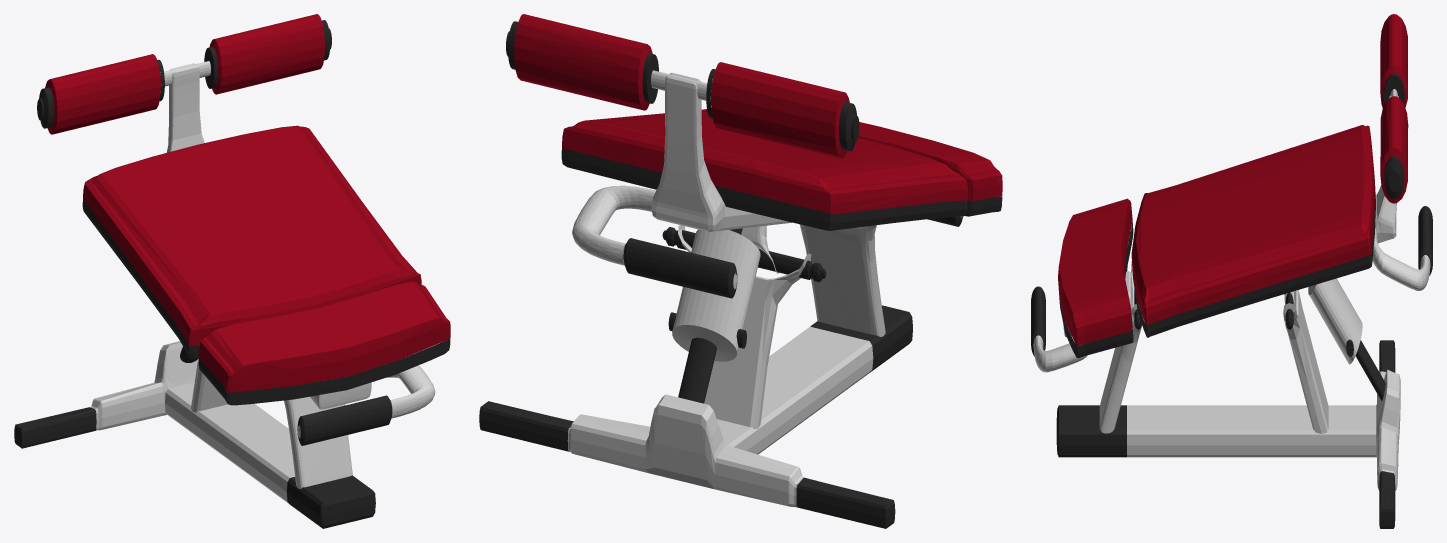
Rendered from sh-bsby-abdominal-bench.glb.
3 views of the same model, side by side, from view 1: azimuth 30°, elevation 25°; view 2: azimuth 150°, elevation 25°; view 3: azimuth 270°, elevation 25° (orthographic). The views are drawn at different scales.
Parts seen in each view (by area): view 1: Cube.031_Cube.047, Cube.025_Cube.041; view 2: Cube.025_Cube.041, Cube.031_Cube.047; view 3: Cube.031_Cube.047, Cube.025_Cube.041.
Part boxes in pixels (<box>): Cube.031_Cube.047: <box>45,14,450,392</box>; Cube.025_Cube.041: <box>14,20,450,528</box>; Cube.025_Cube.041: <box>479,21,1002,528</box>; Cube.031_Cube.047: <box>514,14,1002,214</box>; Cube.031_Cube.047: <box>1058,14,1408,345</box>; Cube.025_Cube.041: <box>1031,73,1432,528</box>.
Size of the model in its own units: 1 by 1 by 1.
